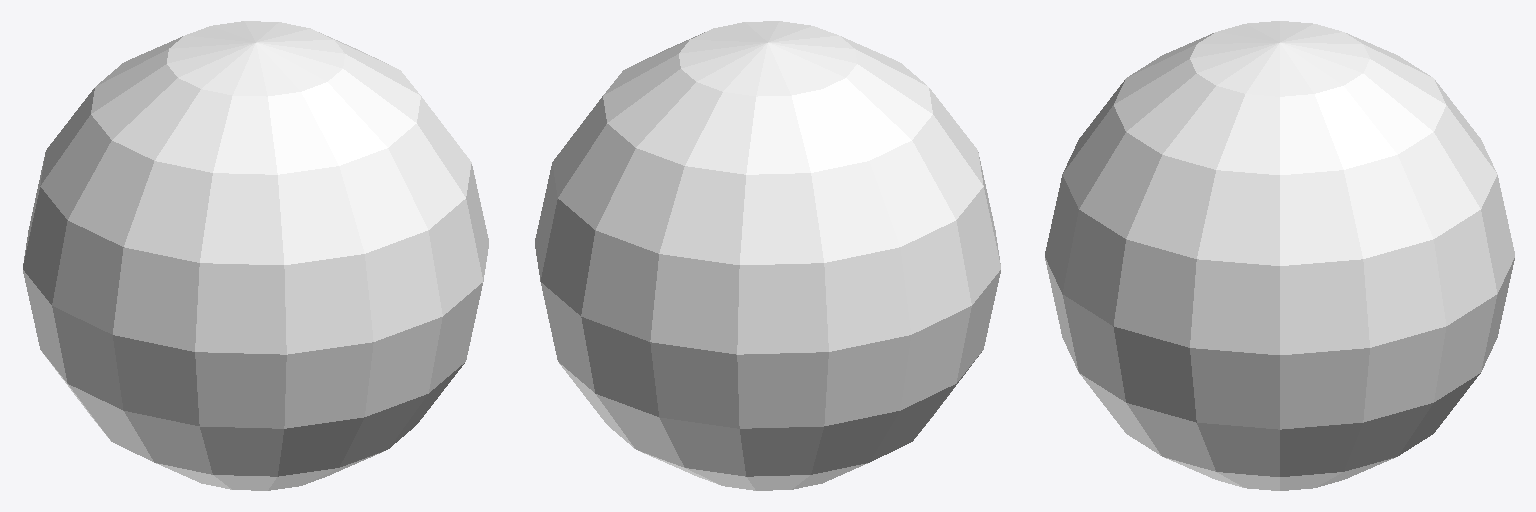
The model's file is myball.obj.
3 renders of one model, left to right at view 1: azimuth 30°, elevation 25°; view 2: azimuth 150°, elevation 25°; view 3: azimuth 270°, elevation 25°, orthographic.
Parts seen in each view (by area): view 1: ポリゴンメッシュ; view 2: ポリゴンメッシュ; view 3: ポリゴンメッシュ.
Part boxes in pixels (left/top/right/bottom): ポリゴンメッシュ: left=23, top=21, right=488, bottom=490; ポリゴンメッシュ: left=535, top=21, right=1000, bottom=490; ポリゴンメッシュ: left=1045, top=21, right=1514, bottom=490.
Bounding box in the file's own units: 0.4301 × 0.4301 × 0.4301.